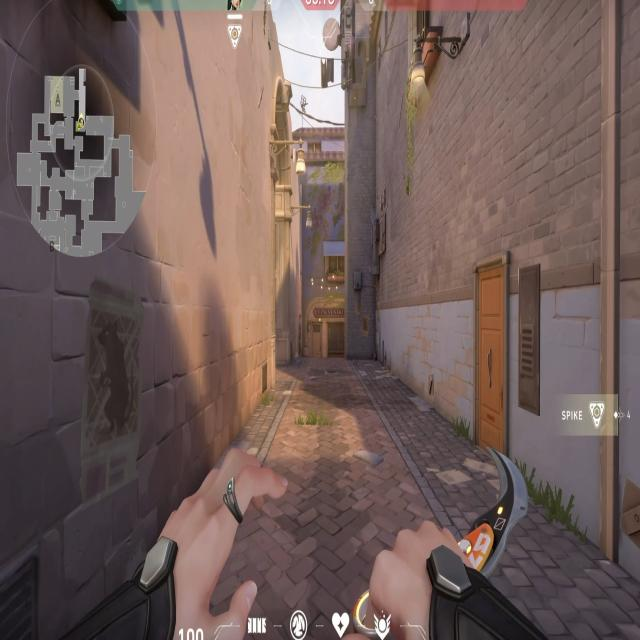Wine: (313, 294, 379, 361)
